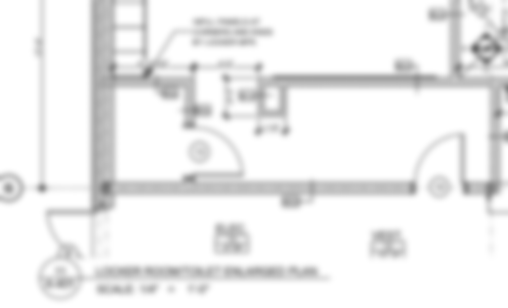door: (45, 208, 107, 260), (189, 125, 247, 180), (409, 131, 468, 182)
